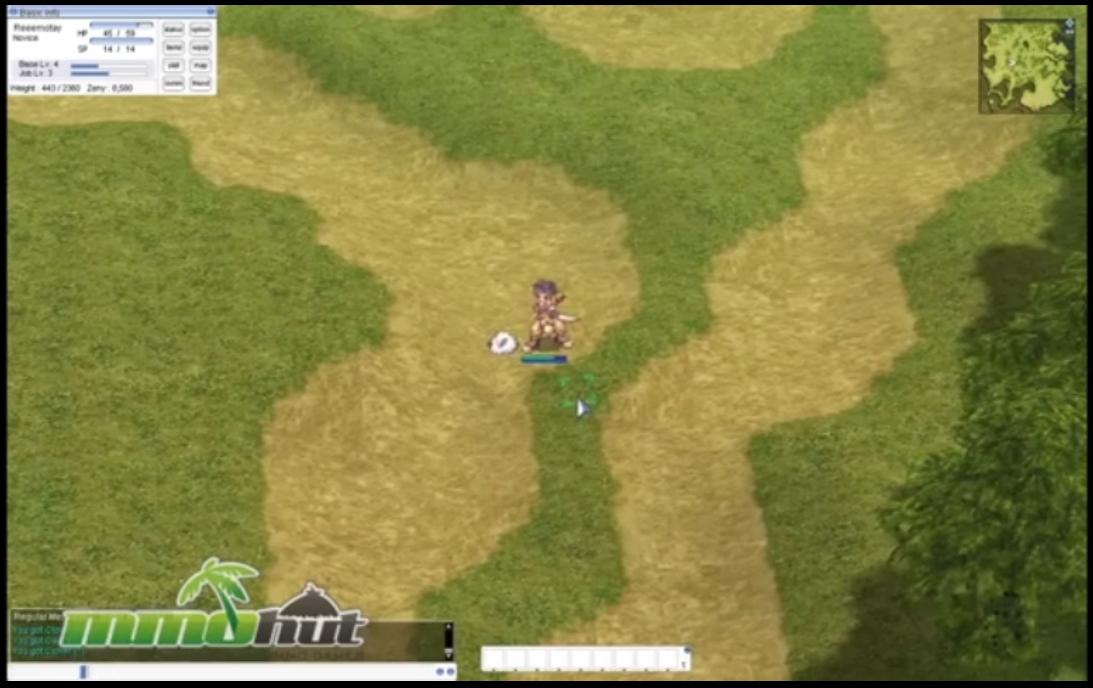lunatic: (488, 328, 520, 356)
